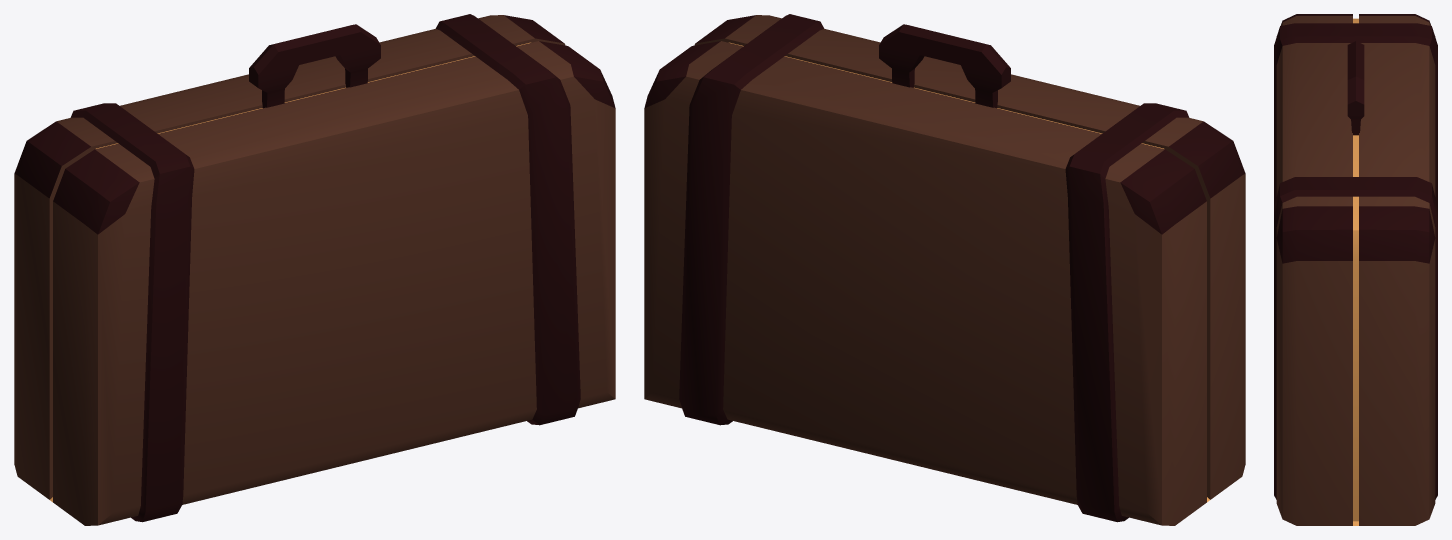
Rendered from Koffer.fbx.
3 views of the same model, side by side, from view 1: azimuth 30°, elevation 25°; view 2: azimuth 150°, elevation 25°; view 3: azimuth 270°, elevation 25° (orthographic). The views are drawn at different scales.
Parts seen in each view (by area): view 1: Koffer; view 2: Koffer; view 3: Koffer.
Part boxes in pixels (box(x1,y1,x2,y2)): Koffer: box(14, 14, 615, 525); Koffer: box(644, 14, 1245, 525); Koffer: box(1274, 14, 1437, 525).
Bounding box in the file's own units: 102 × 75.81 × 31.33.
